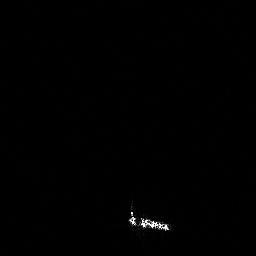ship: (124, 204, 174, 235)
